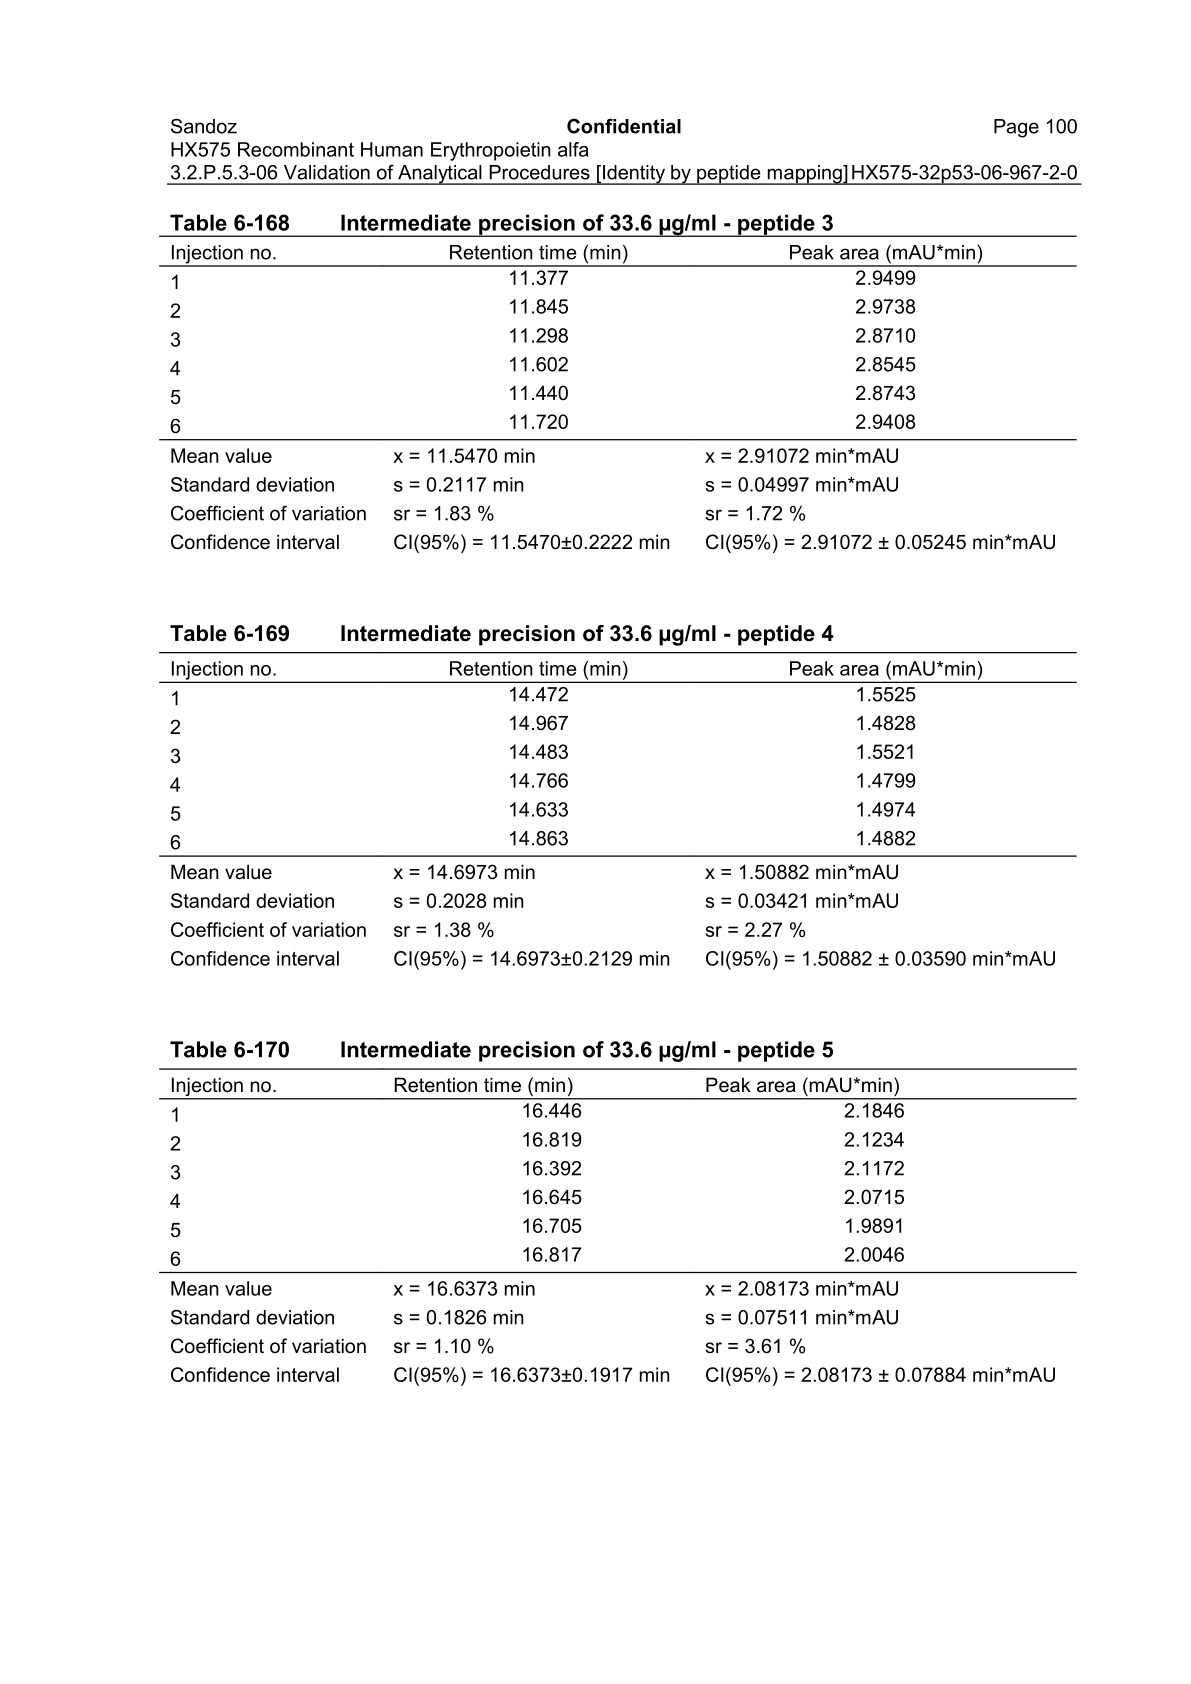partial_lined: (159, 234, 1078, 558), (159, 651, 1078, 973), (159, 1068, 1078, 1386)
